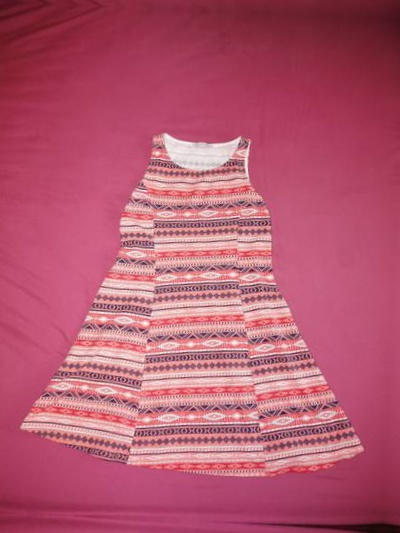Dress: (6, 110, 381, 493)
